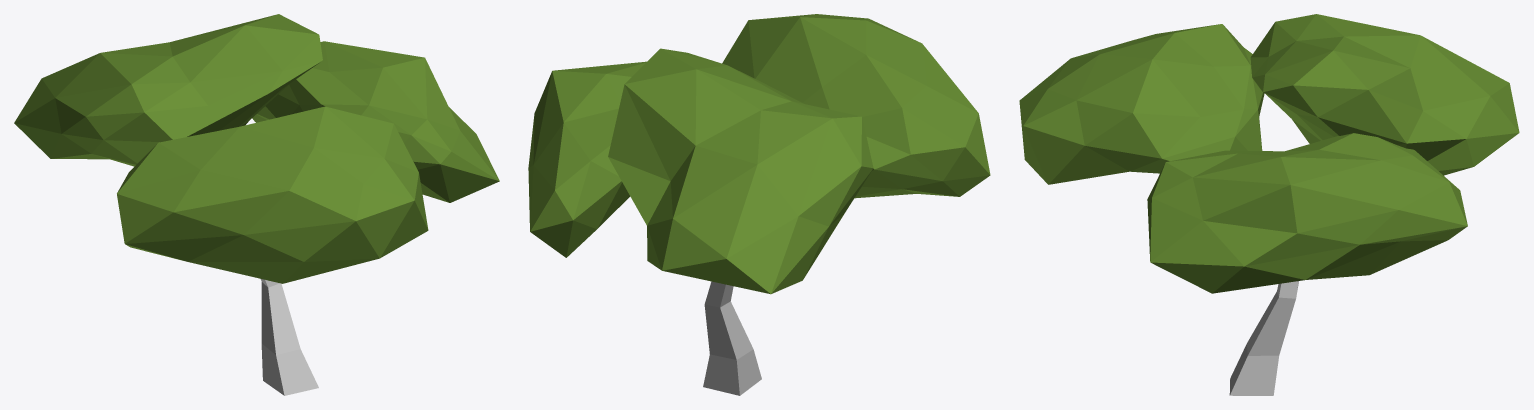
Rendered from tree1.fbx.
3 views of the same model, side by side, from view 1: azimuth 30°, elevation 25°; view 2: azimuth 150°, elevation 25°; view 3: azimuth 270°, elevation 25° (orthographic). The views are drawn at different scales.
Parts seen in each view (by area): view 1: tree1.001, tree1; view 2: tree1.001, tree1; view 3: tree1.001, tree1.
Boxes of the visible parts, x1,y1,x2,y2 form: tree1.001: [14, 14, 499, 283]; tree1: [260, 278, 318, 395]; tree1.001: [528, 14, 990, 294]; tree1: [703, 281, 761, 395]; tree1.001: [1019, 14, 1519, 293]; tree1: [1229, 281, 1298, 395].
Size of the model in its own units: 2131 by 1735 by 2354.
